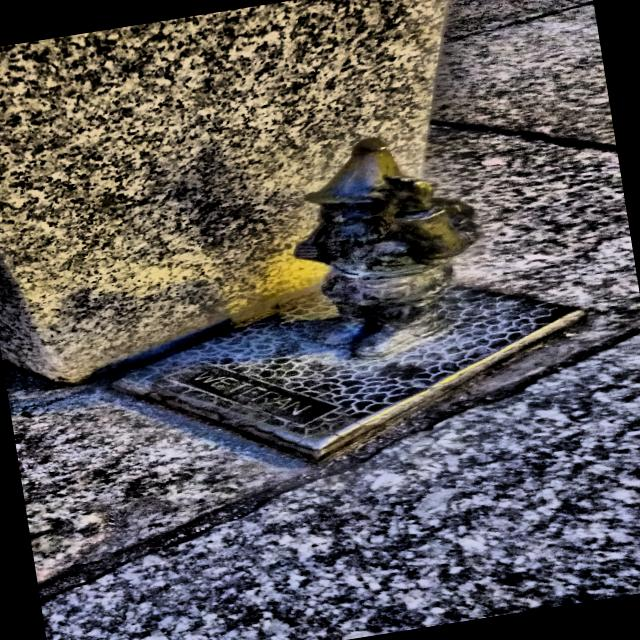Weteran: (295, 138, 477, 359)
